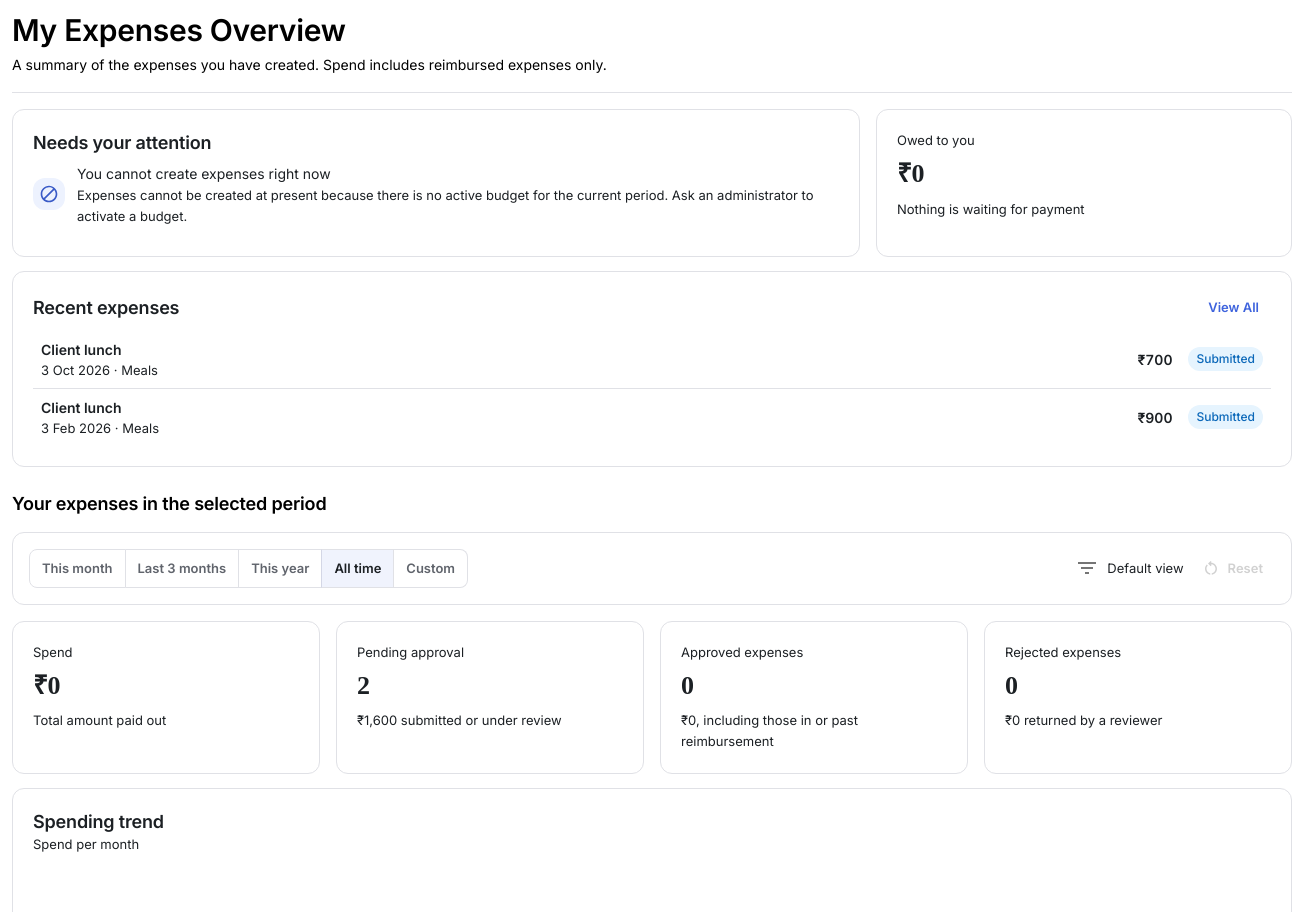
DashboardPage date range › narrows the period figures with a preset
Expected: the text "₹1,600 submitted or under review" is shown, top-left (357, 712), bottom-right (562, 728)
Click the button "This month" at (77, 568), box top-left (29, 549), bottom-right (126, 588)
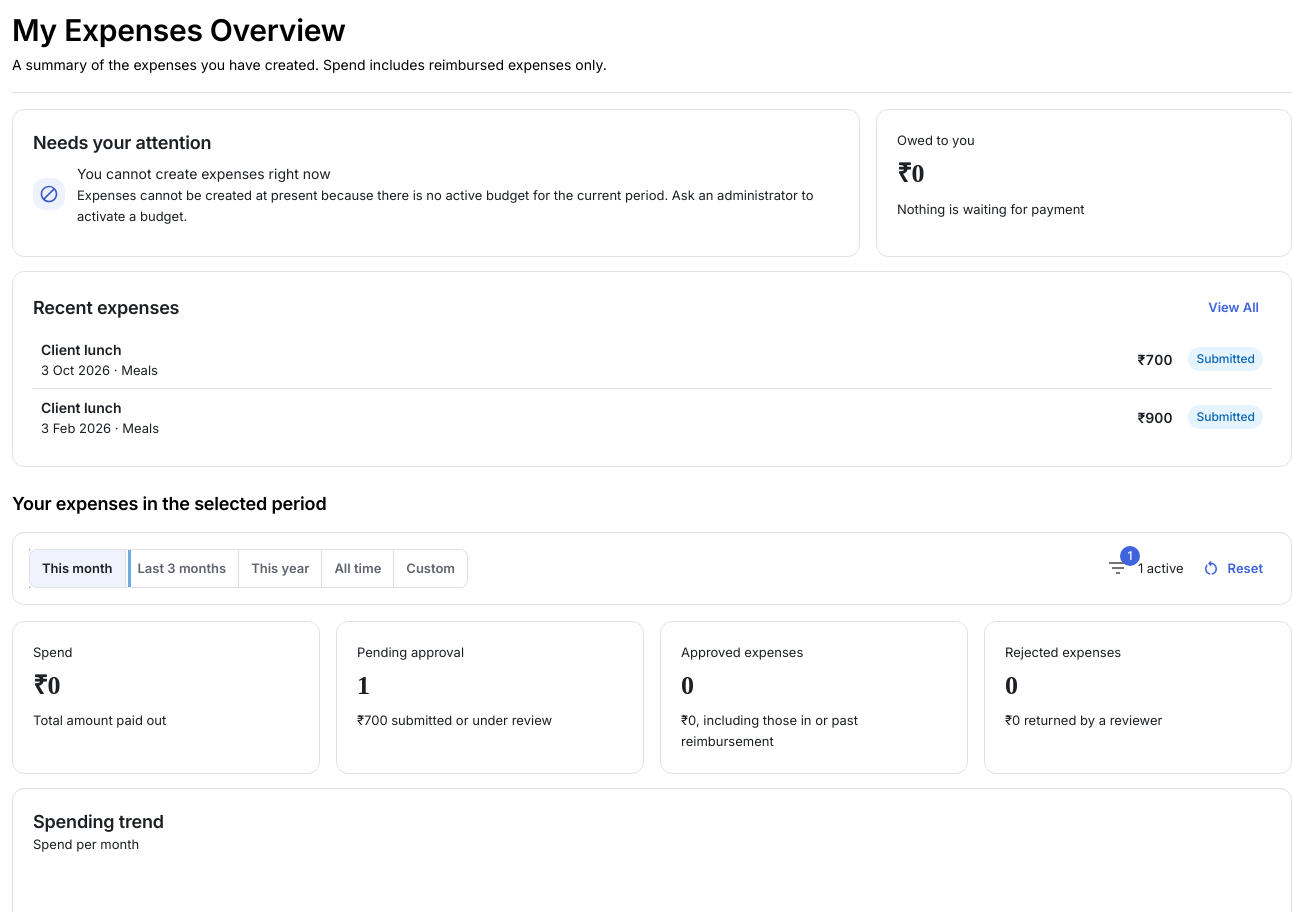
Expected: the text "₹700 submitted or under review" is shown, top-left (357, 712), bottom-right (552, 728)
